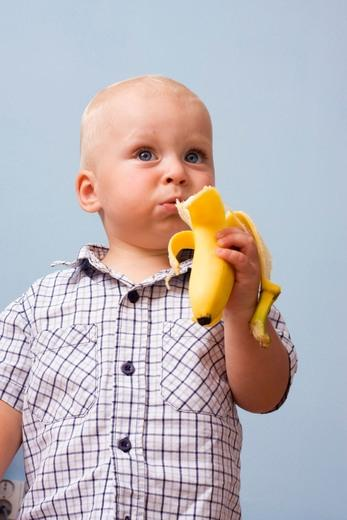Healthy: (72, 56, 241, 246)
